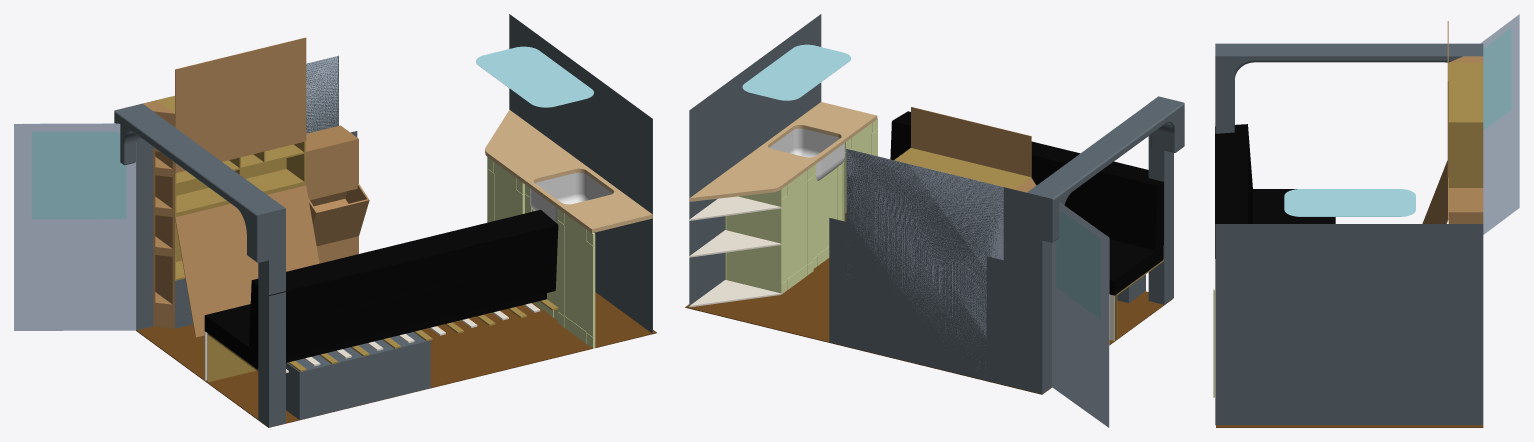
The model's file is 3dmodel.glb.
3 renders of one model, left to right at view 1: azimuth 30°, elevation 25°; view 2: azimuth 150°, elevation 25°; view 3: azimuth 270°, elevation 25°, orthographic. The views are drawn at different scales.
Parts seen in each view (by area): view 1: Shell (2), Body1, Shell, Body1.009, Body1.007, Body1.003, Body1.006, Body2, LeftWindow.001, Shell (1), Worktop.001, WheelArchShelves (+15 smaller); view 2: Shell (2), Body1.001, Shell, Body1, Body1.009, Worktop.001, Body1.007, Body1.005, CabinetDoor1 (1).003, CabinetDoor1 (1).002, LeftWindow.001, Sunroof (+10 smaller); view 3: Shell, Shell (2), Body1, WheelArchShelves, Sunroof, LeftWindow.001, Body1.005, Body1.003, Body1.004, Body1.014, Body1.006, Body1.009 (+2 smaller).
Boxes of the visible parts, x1,y1,x2,y2 form: Shell (2): (114, 55, 357, 427); Body1: (14, 123, 136, 330); Shell: (509, 14, 652, 333); Body1.009: (136, 292, 656, 427); Body1.007: (175, 37, 306, 173); Body1.003: (269, 217, 558, 323); Body1.006: (175, 185, 319, 337); Body2: (257, 257, 556, 356); LeftWindow.001: (31, 131, 126, 219); Shell (1): (285, 332, 430, 419); Worktop.001: (485, 110, 652, 233); WheelArchShelves: (156, 96, 305, 280); Shell (2): (829, 96, 1184, 393); Body1.001: (846, 149, 1003, 362); Shell: (689, 14, 821, 307); Body1: (1052, 202, 1109, 427); Body1.009: (685, 258, 1173, 394); Worktop.001: (689, 102, 877, 201); Body1.007: (911, 107, 1031, 177); Body1.005: (891, 116, 1163, 211); CabinetDoor1 (1).003: (727, 191, 782, 292); CabinetDoor1 (1).002: (779, 166, 812, 294); LeftWindow.001: (1056, 211, 1100, 319); Sunroof: (742, 44, 851, 100); Shell: (1215, 224, 1483, 425); Shell (2): (1215, 43, 1483, 133); Body1: (1480, 14, 1519, 234); WheelArchShelves: (1448, 62, 1483, 187); Sunroof: (1284, 189, 1415, 216); LeftWindow.001: (1483, 28, 1511, 130); Body1.005: (1231, 124, 1249, 223); Body1.003: (1215, 126, 1231, 258); Body1.004: (1253, 189, 1335, 223); Body1.014: (1448, 188, 1483, 213); Body1.006: (1422, 160, 1448, 223); Body1.009: (1216, 425, 1483, 427).
Bounding box in the file's own units: 3.16 × 1.63 × 1.86.
